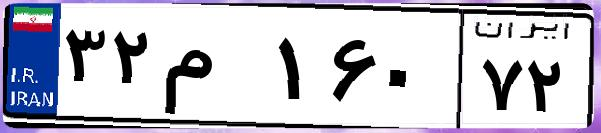0: (385, 28, 445, 110)
1: (270, 28, 330, 110)
2: (525, 38, 570, 115), (110, 28, 158, 98)
3: (57, 26, 110, 100)
6: (330, 28, 385, 110)
7: (475, 38, 525, 113)
م: (158, 20, 270, 120)
